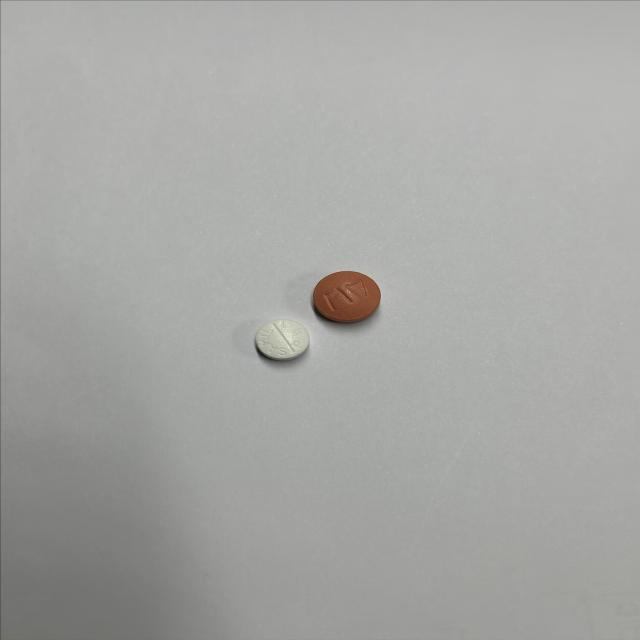Piller: (313, 271, 380, 322), (255, 319, 310, 360)
